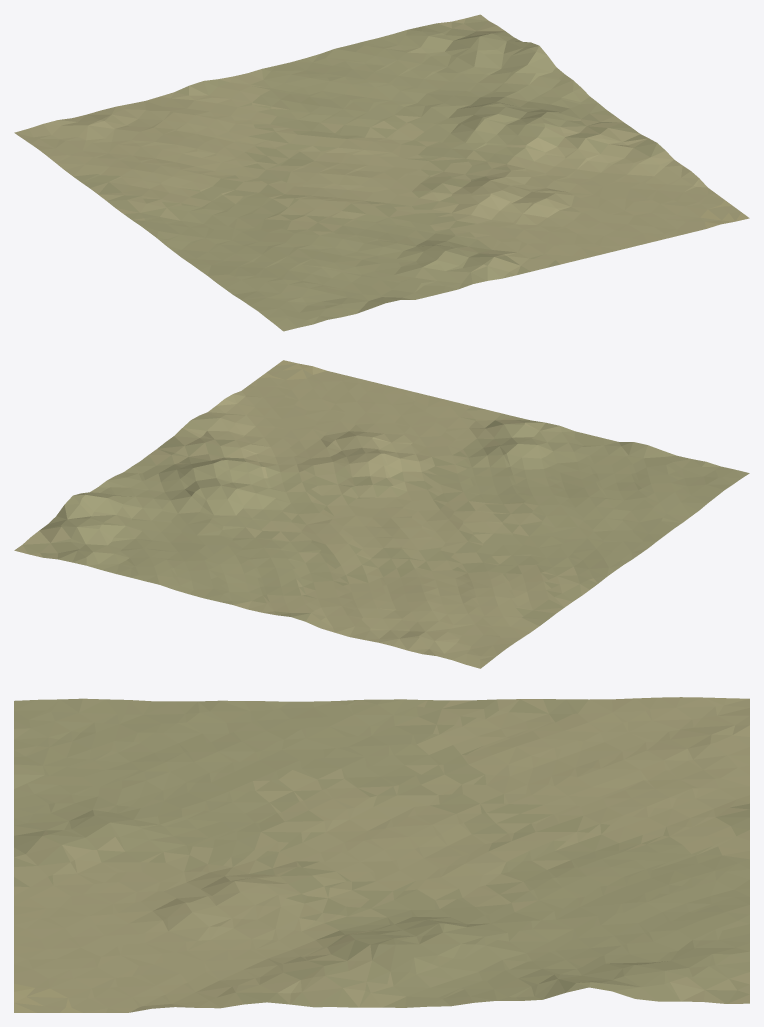
The model's file is Ground_3_-6.glb.
3 views of the same model, one above another, from view 1: azimuth 30°, elevation 25°; view 2: azimuth 150°, elevation 25°; view 3: azimuth 270°, elevation 25° (orthographic). The views are drawn at different scales.
Visible parts, largest first — view 1: Ground_3_-6; view 2: Ground_3_-6; view 3: Ground_3_-6.
Part boxes in pixels (x1,y1,x2,y2): Ground_3_-6: [14, 14, 749, 331]; Ground_3_-6: [14, 360, 749, 668]; Ground_3_-6: [14, 697, 749, 1012].
Size of the model in its own units: 768 by 29.21 by 768.
